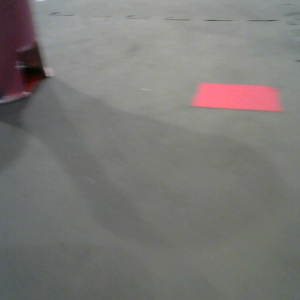middle: (1, 1, 55, 108)
